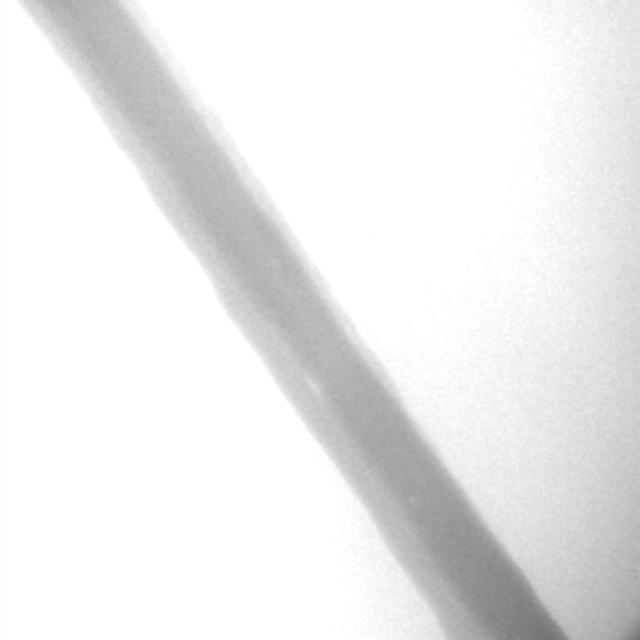air hole: (301, 370, 318, 393)
